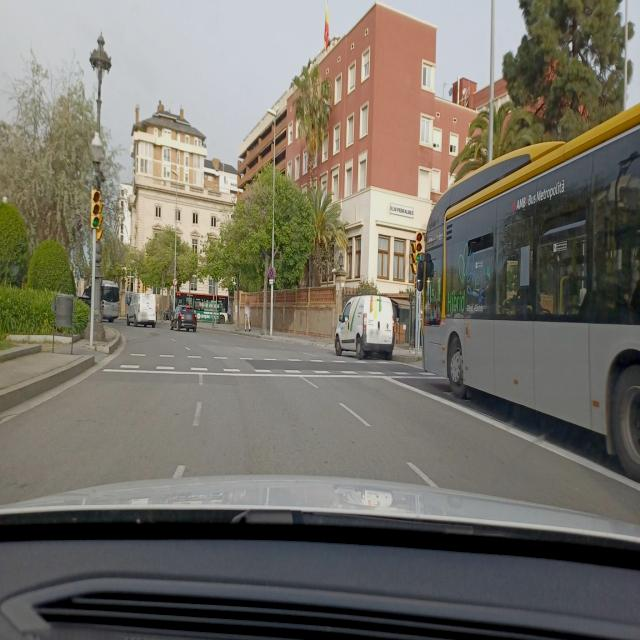car: (334, 293, 396, 361), (126, 292, 157, 328), (170, 304, 198, 332)
